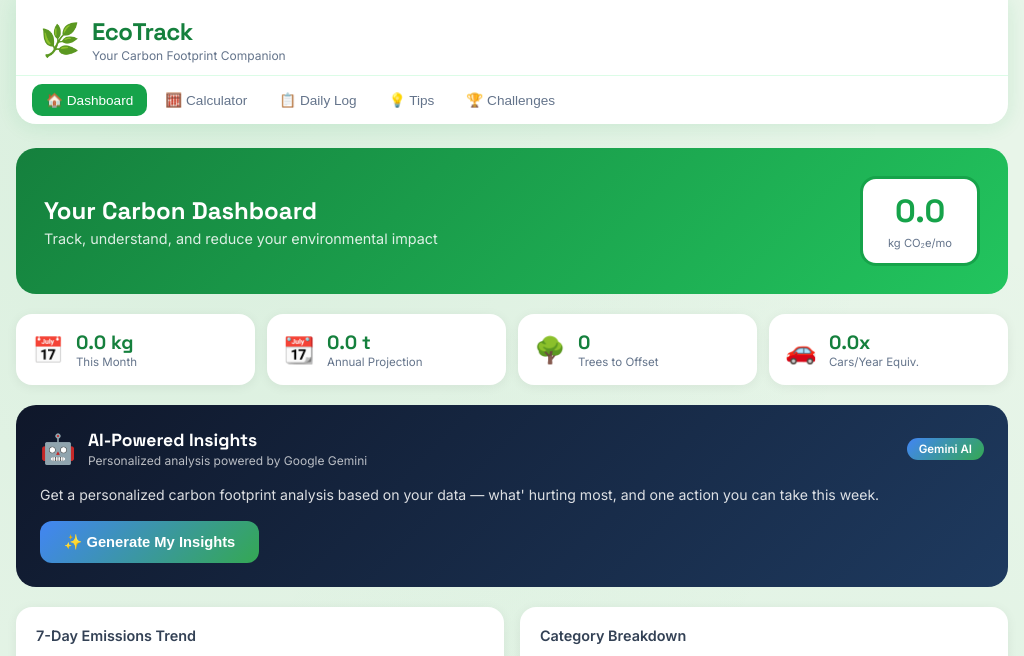
Test: App rendering › navigates to tips tab
What coordinates should you click on to do the following:
click the button "💡 Tips"
I would click on:
 (411, 100)
Its box is [375,84,448,116].
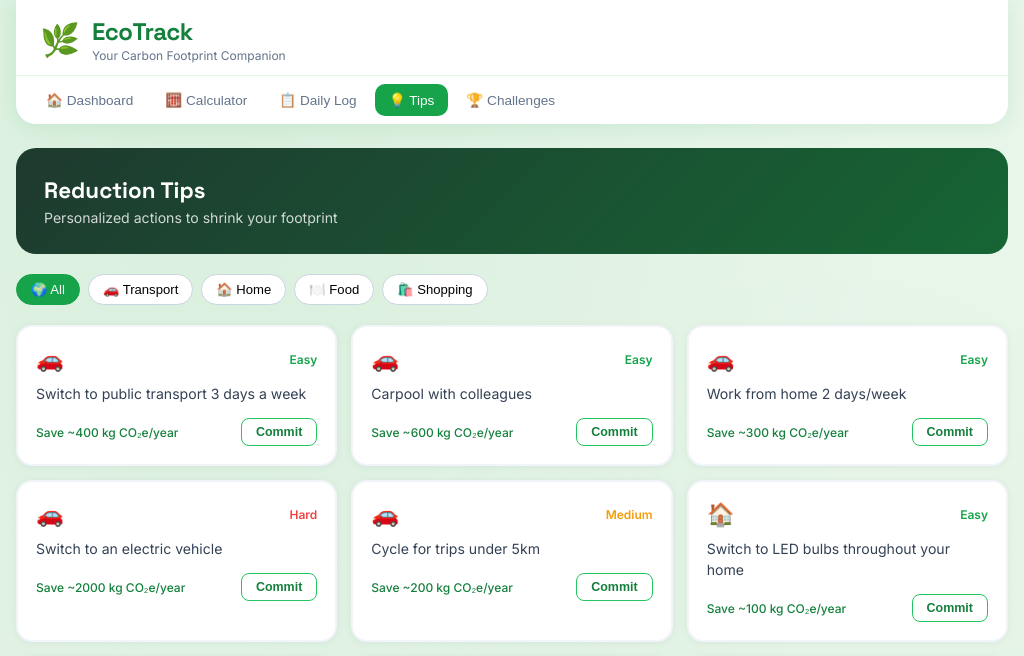
Check: the heading "Reduction Tips" is shown, box [44,176,206,205]
